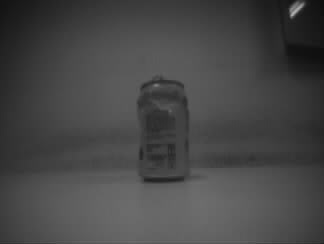Tin can: (136, 71, 190, 183)
